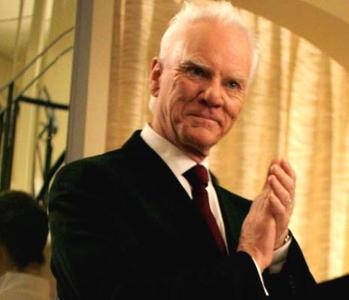person without safety: (46, 2, 302, 300)
